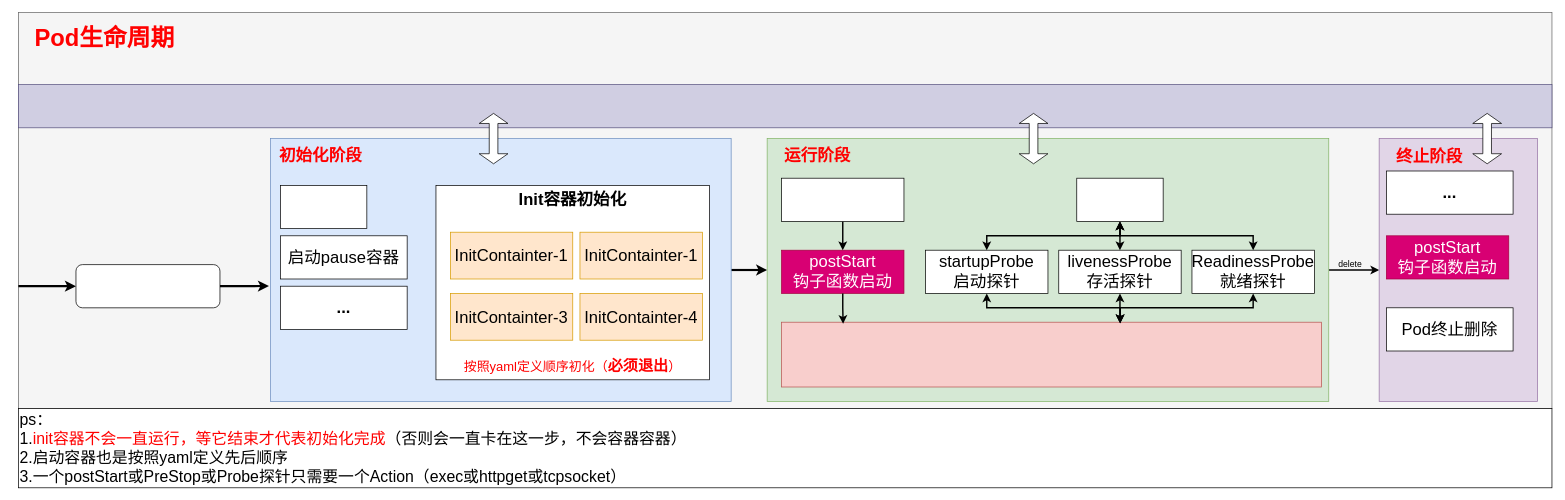
Image size: 1565x500. Some labels were removed from this diagram. Here are the shapes that lost their labels. From the top down, the box of each, then its label:
(18, 84, 1552, 128): kubelet
(280, 185, 367, 229): 拉取镜像
(781, 177, 904, 221): 启动容器 容器command执行
(1076, 177, 1163, 221): Status
(75, 264, 220, 308): kube-scheduler 分配节点
(781, 321, 1322, 387): 容器们
